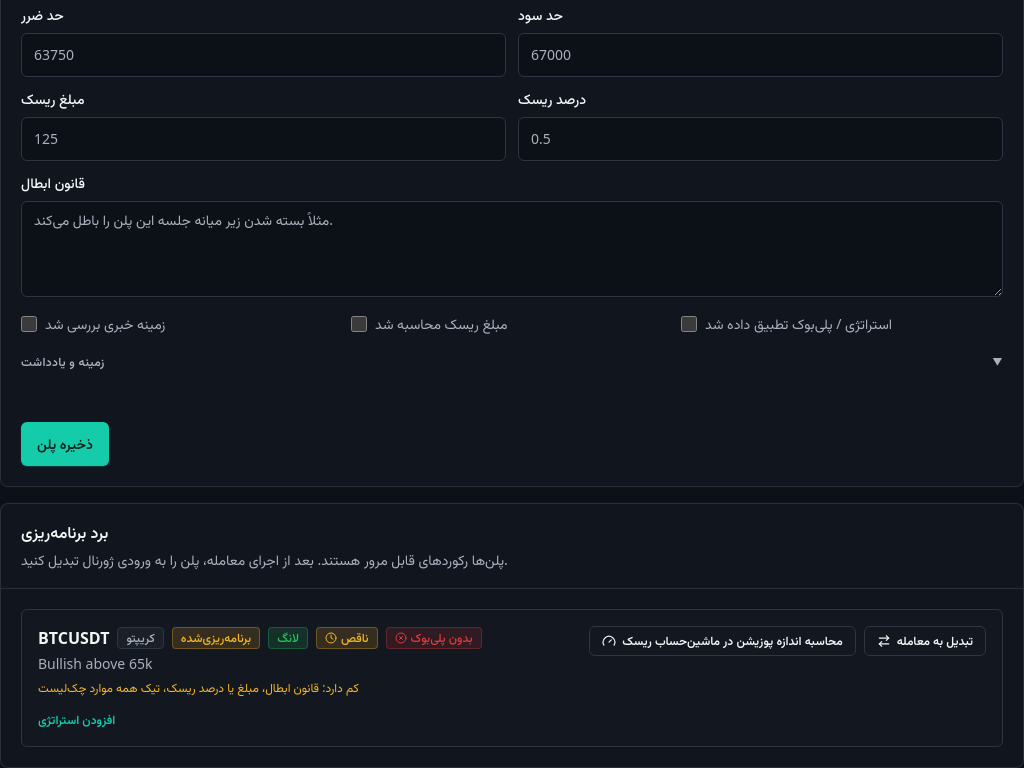
Scenario: a plan without a strategy can get one from the card › is Persian on the Persian page
The image size is (1024, 768).
(page scrolled)
Expected: the text "BTCUSDT" is shown, [38,626,109,650]
Click the button "افزودن استراتژی" at (77, 720), box [38,712,115,728]
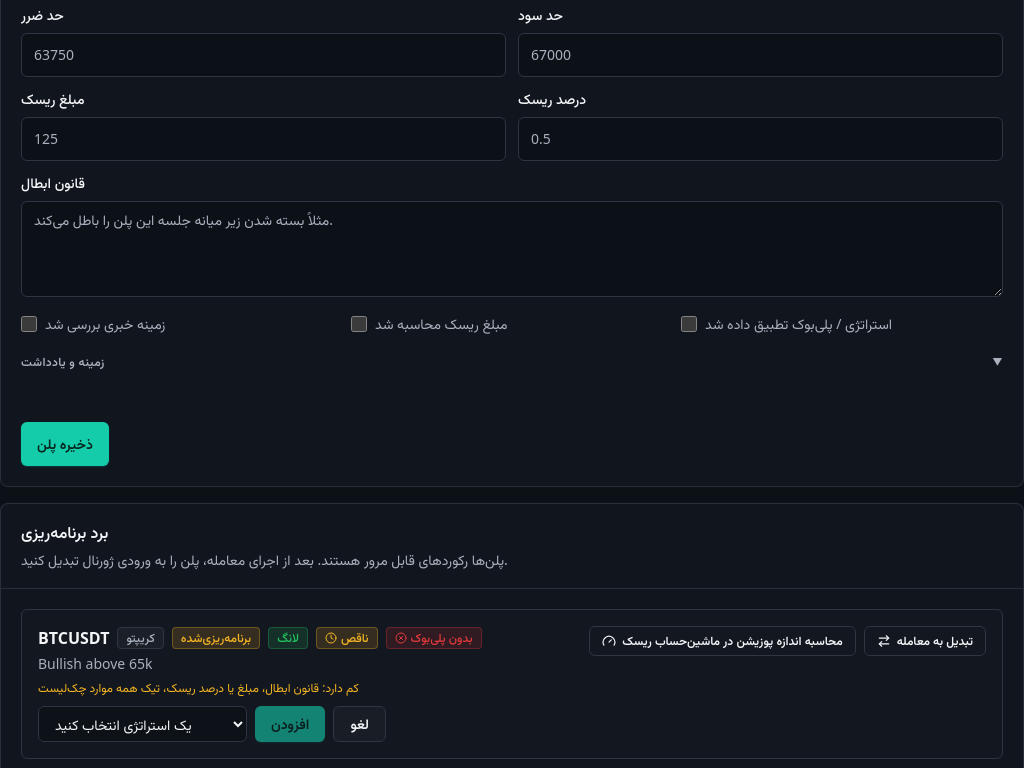
Expected: the dropdown named "استراتژی برای BTCUSDT" is shown, [38,706,247,742]
